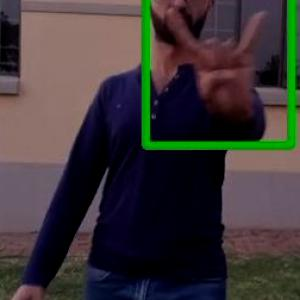takeoff-hand: (163, 0, 277, 151)
